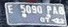plate: (5, 2, 68, 26)
